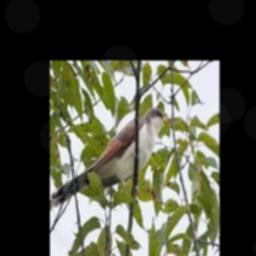Cuckoo: (52, 107, 174, 208)
